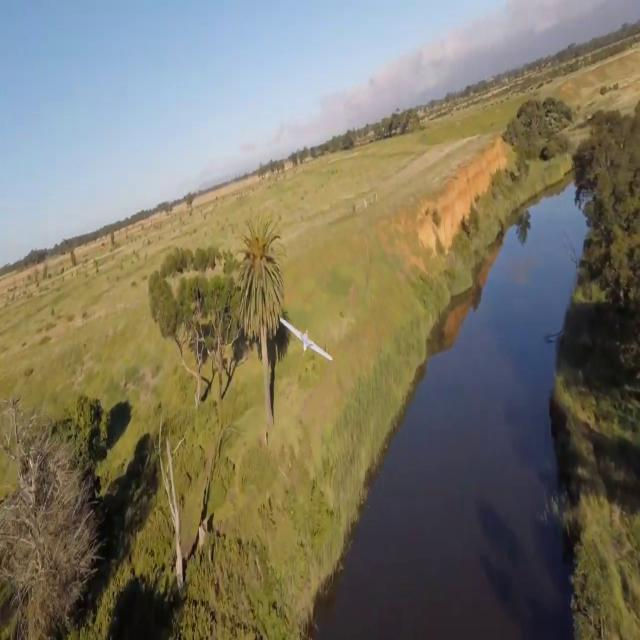iha: (278, 316, 336, 363)
